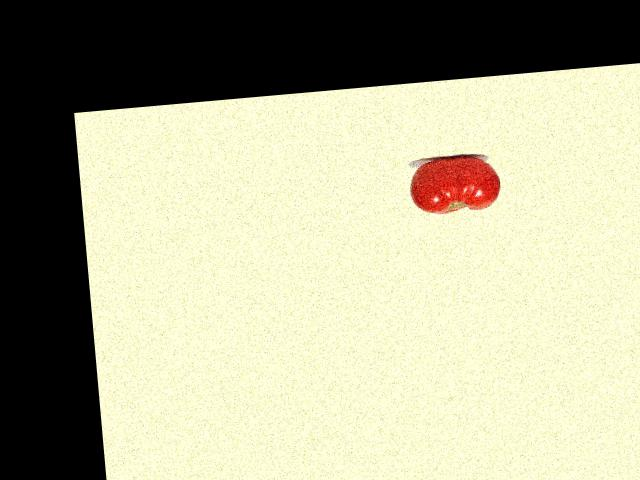tomato: (408, 153, 502, 216)
